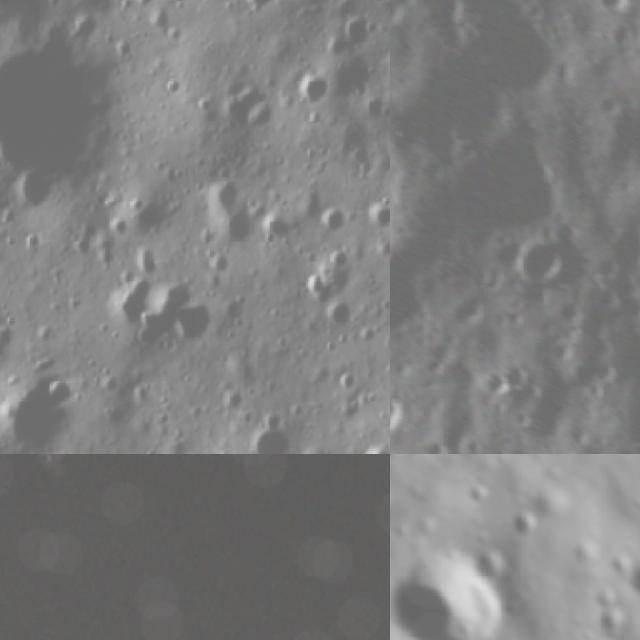crater: (0, 41, 106, 189), (390, 548, 518, 640), (0, 370, 62, 454), (241, 418, 315, 454), (520, 239, 566, 287), (574, 356, 619, 399), (614, 108, 640, 167), (454, 291, 491, 331), (593, 604, 630, 640), (611, 227, 640, 271), (507, 508, 541, 545), (300, 64, 326, 110), (325, 299, 359, 333), (360, 191, 390, 228), (460, 479, 497, 506), (606, 21, 640, 48), (390, 385, 407, 436), (266, 205, 287, 242), (508, 366, 534, 389), (425, 432, 452, 454), (488, 365, 507, 396), (624, 293, 640, 321), (628, 379, 640, 416), (427, 353, 449, 373), (596, 0, 636, 10), (362, 444, 390, 454)
